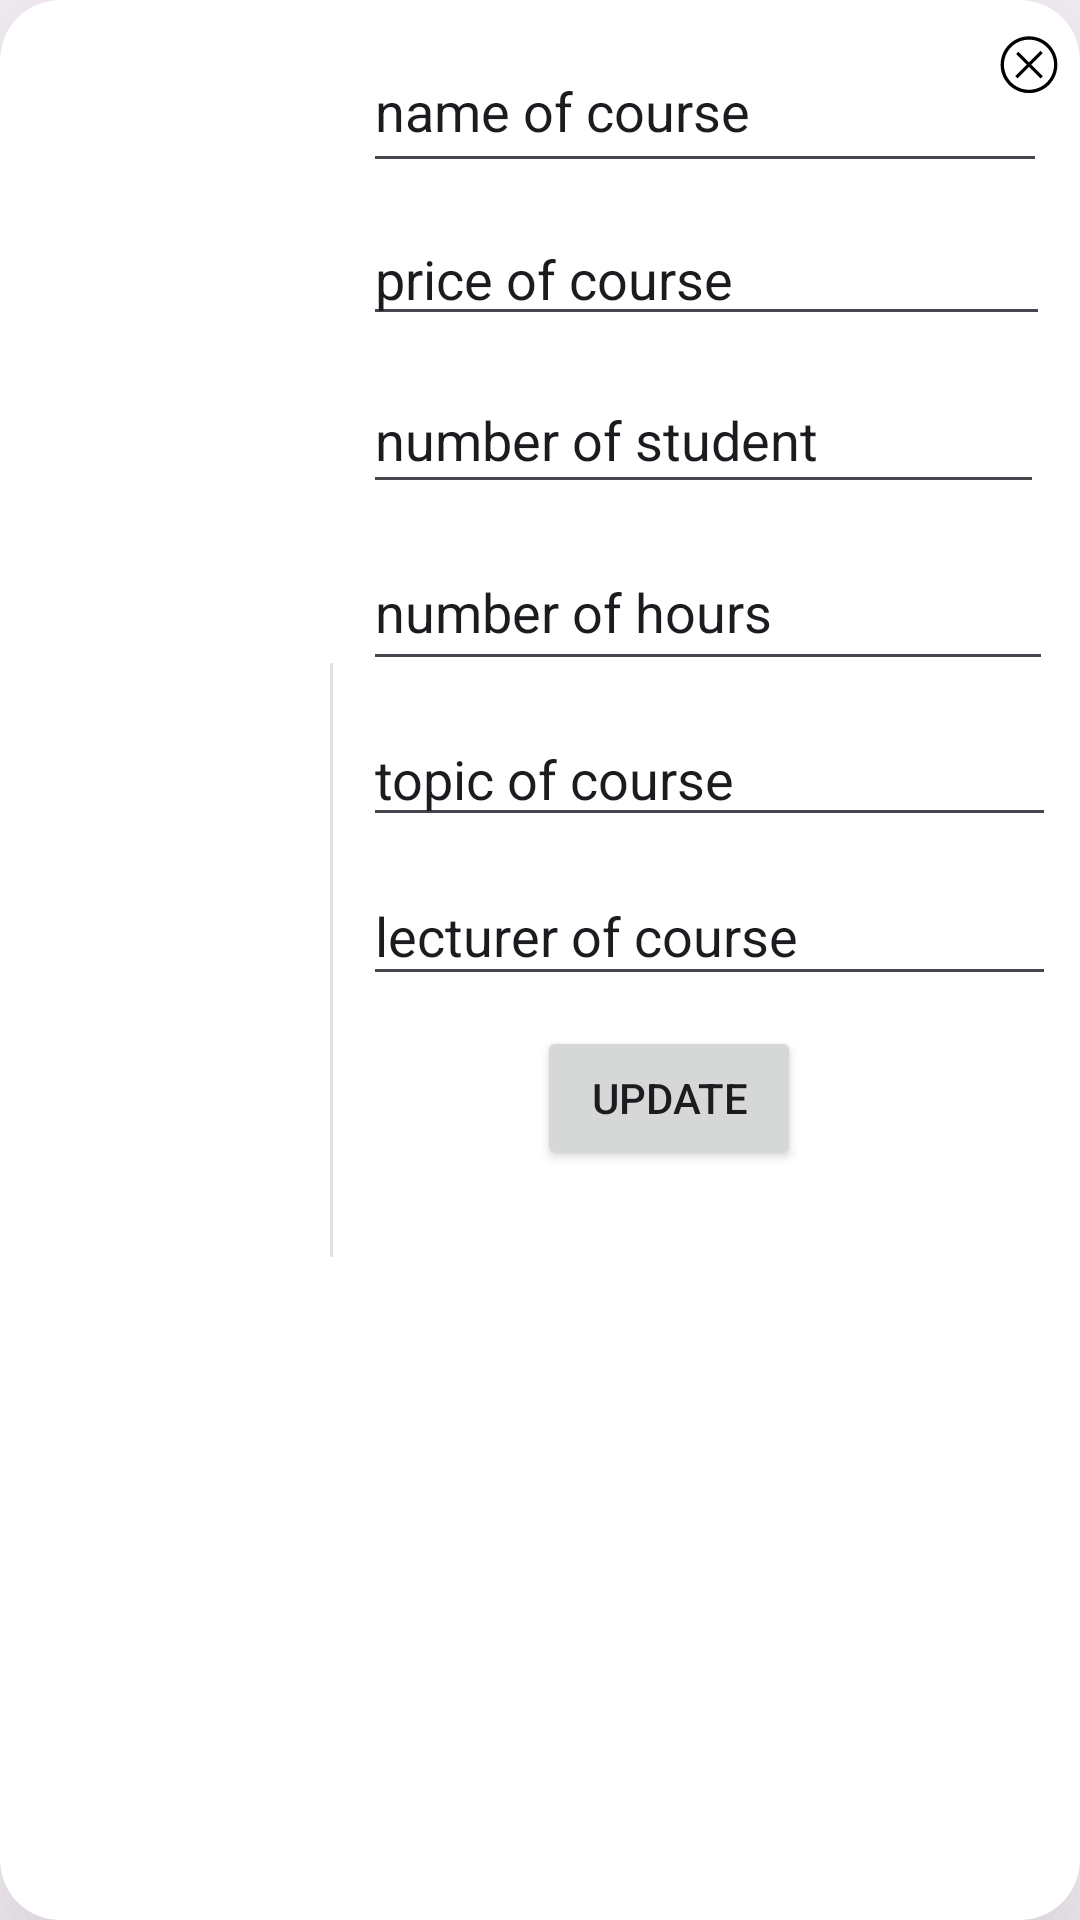

Named icons in this screenshot (1080 x 1920) and their bounding boxes, [x1,y1,x2,y2]:
delete: [1000,36,1058,93]
